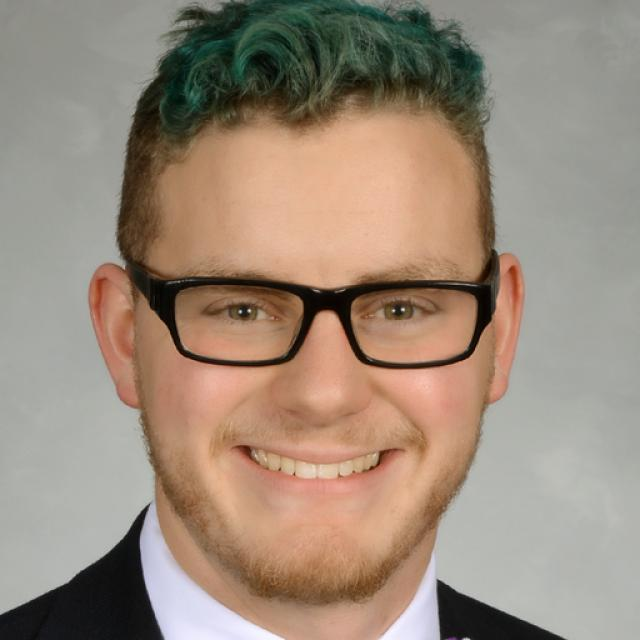happy: (139, 134, 490, 605)
